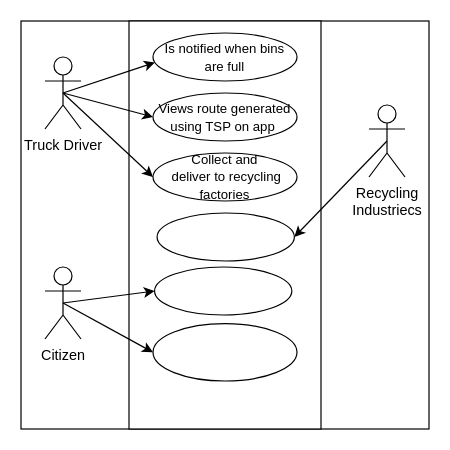
This 450x450 diagram has some shape labels left out. The shapes that lost their labels are listed below. From the top down, each one's box as (x1, y1, x2, y2) in pixels, then its label:
(156, 212, 294, 261): Receive notification that waste is on the way
(153, 266, 292, 315): Locate nearest smart bin to put waste
(152, 322, 297, 381): View and purchase recycled products on app
